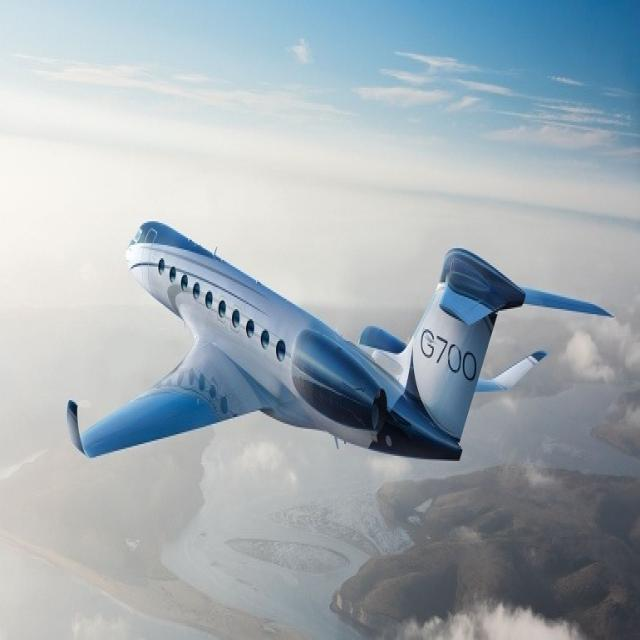jet: (20, 71, 635, 580)
